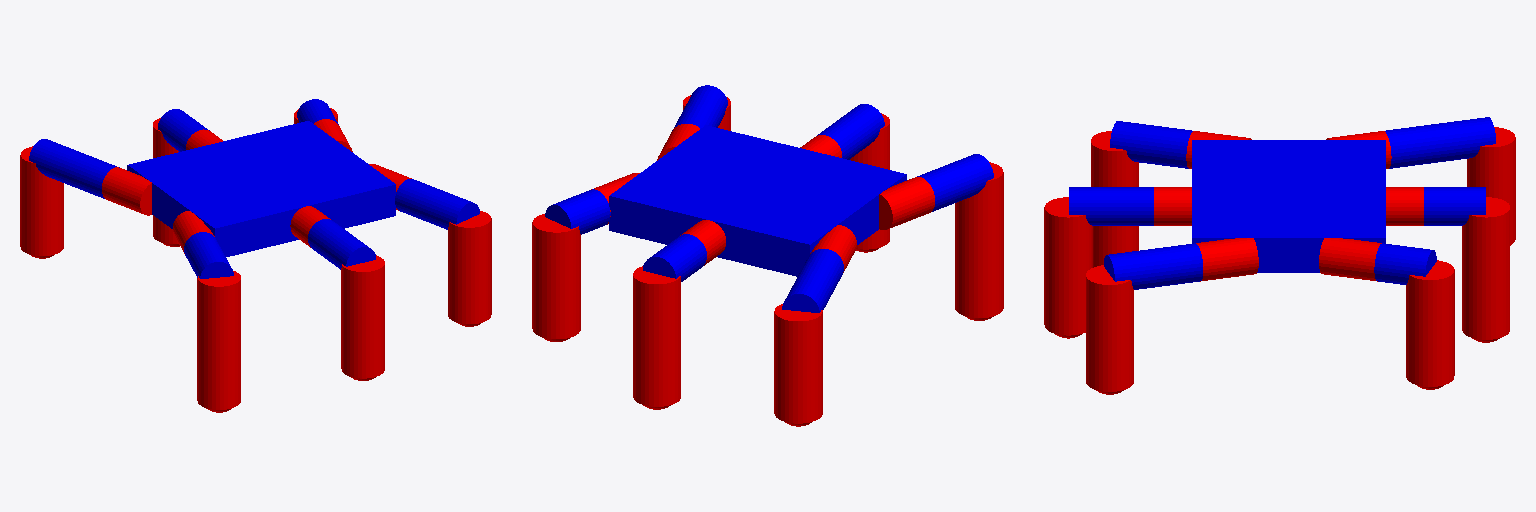
--- What the picture shows (computed from the rendered views, not written in the file) ---
Views: 3 orthographic renders of the robot side by side, from view 1: azimuth 30°, elevation 25°; view 2: azimuth 150°, elevation 25°; view 3: azimuth 270°, elevation 25°.
Model pexod with 19 links and 18 joints (18 revolute), rooted at base_link, posed every joint at zero.
Visible links, largest first — view 1: base_link, leg_5_3, leg_4_3, leg_3_3, leg_0_3, leg_0_2, leg_3_2, leg_4_2, leg_0_1, leg_5_2, leg_1_2, leg_1_3 (+3 smaller); view 2: base_link, leg_5_3, leg_1_3, leg_2_3, leg_0_3, leg_0_2, leg_5_2, leg_5_1, leg_4_2, leg_1_2, leg_2_2, leg_3_2 (+5 smaller); view 3: base_link, leg_1_3, leg_4_3, leg_2_3, leg_3_3, leg_0_2, leg_3_2, leg_5_3, leg_4_2, leg_0_3, leg_5_2, leg_1_2 (+5 smaller).
Boxes of the visible links, x1,y1,x2,y2 form: base_link: (127, 121, 395, 256); leg_5_3: (197, 271, 240, 412); leg_4_3: (341, 255, 384, 380); leg_3_3: (448, 211, 491, 326); leg_0_3: (20, 146, 63, 258); leg_0_2: (29, 139, 119, 198); leg_3_2: (395, 179, 479, 229); leg_4_2: (308, 219, 375, 269); leg_0_1: (102, 167, 151, 215); leg_5_2: (184, 232, 233, 278); leg_1_2: (158, 109, 209, 151); leg_1_3: (153, 118, 179, 246); base_link: (609, 125, 906, 276); leg_5_3: (955, 162, 1003, 320); leg_1_3: (633, 266, 680, 409); leg_2_3: (532, 214, 580, 341); leg_0_3: (774, 304, 822, 426); leg_0_2: (782, 249, 843, 312); leg_5_2: (917, 154, 993, 211); leg_5_1: (879, 177, 934, 229); leg_4_2: (817, 104, 884, 159); leg_1_2: (643, 234, 706, 281); leg_2_2: (545, 189, 610, 234); leg_3_2: (672, 85, 727, 130); base_link: (1192, 140, 1385, 272); leg_1_3: (1462, 197, 1509, 342); leg_4_3: (1044, 197, 1092, 338); leg_2_3: (1406, 260, 1454, 389); leg_3_3: (1086, 265, 1133, 394); leg_0_2: (1385, 117, 1495, 168); leg_3_2: (1104, 243, 1202, 289); leg_5_3: (1091, 131, 1138, 267); leg_4_2: (1069, 187, 1153, 225); leg_0_3: (1467, 127, 1515, 245); leg_5_2: (1110, 121, 1192, 168); leg_1_2: (1424, 187, 1485, 225).
Size in the robot's own frame: 0.3872 by 0.4875 by 0.1884 metres.
Geometry: primitives only (box / cylinder / sphere), no mesh files.

URDF robot description (pexod):
<?xml version="1.0" ?>
<!-- =================================================================================== -->
<!-- |    This document was autogenerated by xacro from pexod.xacro                    | -->
<!-- |    EDITING THIS FILE BY HAND IS NOT RECOMMENDED                                 | -->
<!-- =================================================================================== -->
<robot name="pexod" xmlns:xacro="http://www.ros.org/wiki/xacro">
  <!-- <xacro:include filename="$(find pexod_description)/urdf/pexod_control.xacro" /> -->
  <!-- MATERIALS -->
  <material name="Blue">
    <color rgba="0 0 1 1"/>
  </material>
  <material name="Red">
    <color rgba="1 0 0 1"/>
  </material>
  <material name="Green">
    <color rgba="0 1 0 1"/>
  </material>
  <material name="Yellow">
    <color rgba="1 1 0 1"/>
  </material>
  <material name="LightGrey">
    <color rgba="0.6 0.6 0.6 1.0"/>
  </material>
  <!-- END OF MATERIALS -->
  <!-- XACRO MACROS FOR VISUALS AND COLLISIONS -->
  <!-- END OF XACRO MACROS -->
  <!-- TORSO -->
  <link name="base_link">
    <visual>
      <origin rpy="0 0 0" xyz="0 0 0"/>
      <geometry>
        <box size="0.24 0.2 0.04"/>
      </geometry>
      <material name="Blue"/>
    </visual>
    <collision>
      <origin rpy="0 0 0" xyz="0 0 0"/>
      <geometry>
        <box size="0.24 0.2 0.04"/>
      </geometry>
    </collision>
    <inertial>
      <!-- CENTER OF MASS -->
      <origin rpy="0 0 0" xyz="0 0 0"/>
      <mass value="1.031"/>
      <!-- box inertia: 1/12*m(y^2+z^2), ... -->
      <inertia ixx="0.00357413333333" ixy="0" ixz="0" iyy="0.00508626666667" iyz="0" izz="0.00838546666667"/>
    </inertial>
  </link>
  <!-- XACRO MACRO FOR LEGS LINKS/JOINTS -->
  <!-- END OF LEG LINKS/JOINTS -->
  <joint name="body_leg_2" type="revolute">
    <parent link="base_link"/>
    <child link="leg_2_1"/>
    <limit effort="30.0" lower="-1.57079632679" upper="1.57079632679" velocity="7.0"/>
    <origin rpy="0 0 -0.3" xyz="0.11 0.04 0"/>
    <!-- <xacro:if value="${index == 5 or index == 4 or index == 3}">
                <axis xyz="0 0 1"/>
            </xacro:if>
            <xacro:if value="${index == 2 or index == 1 or index == 0}"> -->
    <axis xyz="0 0 1"/>
    <!-- </xacro:if> -->
    <dynamics damping="0.0"/>
  </joint>
  <link name="leg_2_1">
    <visual>
      <origin rpy="1.57079632679 0 0" xyz="0.01 0.03 0"/>
      <geometry>
        <cylinder length="0.06" radius="0.02"/>
      </geometry>
      <material name="Red"/>
    </visual>
    <collision>
      <origin rpy="1.57079632679 0 0" xyz="0.01 0.03 0"/>
      <geometry>
        <box size="0.02 0.02 0.06"/>
      </geometry>
    </collision>
    <inertial>
      <!-- CENTER OF MASS -->
      <origin rpy="1.57079632679 0 0" xyz="0.01 0.03 0"/>
      <mass value="0.02"/>
      <!-- box inertia: 1/12*m(y^2+z^2), ... -->
      <inertia ixx="6.66666666667e-06" ixy="0" ixz="0" iyy="6.66666666667e-06" iyz="0" izz="1.33333333333e-06"/>
    </inertial>
  </link>
  <joint name="leg_2_1_2" type="revolute">
    <parent link="leg_2_1"/>
    <child link="leg_2_2"/>
    <limit effort="30.0" lower="-0.78539816339" upper="0.78539816339" velocity="7.0"/>
    <origin rpy="0 0 0" xyz="0 0.06 0"/>
    <axis xyz="1 0 0"/>
    <dynamics damping="0.0"/>
  </joint>
  <link name="leg_2_2">
    <visual>
      <origin rpy="1.57079632679 0 0" xyz="0.01 0.0276457289929 0"/>
      <geometry>
        <cylinder length="0.0552914579858" radius="0.02"/>
      </geometry>
      <material name="Blue"/>
    </visual>
    <collision>
      <origin rpy="1.57079632679 0 0" xyz="0.01 0.0276457289929 0"/>
      <geometry>
        <box size="0.02 0.02 0.0552914579858"/>
      </geometry>
    </collision>
    <inertial>
      <!-- CENTER OF MASS -->
      <origin rpy="1.57079632679 0 0" xyz="0.01 0.0276457289929 0"/>
      <mass value="0.184"/>
      <!-- box inertia: 1/12*m(y^2+z^2), ... -->
      <inertia ixx="5.30095616683e-05" ixy="0" ixz="0" iyy="5.30095616683e-05" iyz="0" izz="1.22666666667e-05"/>
    </inertial>
  </link>
  <joint name="leg_2_2_3" type="revolute">
    <parent link="leg_2_2"/>
    <child link="leg_2_3"/>
    <limit effort="30.0" lower="-0.78539816339" upper="0.78539816339" velocity="7.0"/>
    <origin rpy="-1.57079632679 0 0" xyz="0 0.0552914579858 0"/>
    <axis xyz="-1 0 0"/>
    <dynamics damping="0.0"/>
  </joint>
  <link name="leg_2_3">
    <visual>
      <origin rpy="1.57079632679 0 0" xyz="0.0125 0.060950459894 0"/>
      <geometry>
        <cylinder length="0.121900919788" radius="0.025"/>
      </geometry>
      <material name="Red"/>
    </visual>
    <visual>
      <origin rpy="1.57079632679 0 0" xyz="0.0125 0.109400919788 0"/>
      <geometry>
        <sphere radius="0.025"/>
      </geometry>
      <material name="Red"/>
    </visual>
    <collision>
      <origin rpy="1.57079632679 0 0" xyz="0.0125 0.060950459894 0"/>
      <geometry>
        <box size="0.025 0.025 0.121900919788"/>
      </geometry>
    </collision>
    <collision>
      <origin rpy="1.57079632679 0 0" xyz="0.0125 0.109400919788 0"/>
      <geometry>
        <sphere radius="0.025"/>
      </geometry>
      <material name="Red"/>
    </collision>
    <inertial>
      <!-- CENTER OF MASS -->
      <origin rpy="1.57079632679 0 0" xyz="0.0125 0.060950459894 0"/>
      <mass value="0.04"/>
      <!-- box inertia: 1/12*m(y^2+z^2), ... -->
      <inertia ixx="5.16161141505e-05" ixy="0" ixz="0" iyy="5.16161141505e-05" iyz="0" izz="4.16666666667e-06"/>
    </inertial>
  </link>
  <joint name="body_leg_3" type="revolute">
    <parent link="base_link"/>
    <child link="leg_3_1"/>
    <limit effort="30.0" lower="-1.57079632679" upper="1.57079632679" velocity="7.0"/>
    <origin rpy="0 0 0.3" xyz="0.11 -0.04 0"/>
    <!-- <xacro:if value="${index == 5 or index == 4 or index == 3}">
                <axis xyz="0 0 1"/>
            </xacro:if>
            <xacro:if value="${index == 2 or index == 1 or index == 0}"> -->
    <axis xyz="0 0 1"/>
    <!-- </xacro:if> -->
    <dynamics damping="0.0"/>
  </joint>
  <link name="leg_3_1">
    <visual>
      <origin rpy="1.57079632679 0 0" xyz="0.01 -0.03 0"/>
      <geometry>
        <cylinder length="0.06" radius="0.02"/>
      </geometry>
      <material name="Red"/>
    </visual>
    <collision>
      <origin rpy="1.57079632679 0 0" xyz="0.01 -0.03 0"/>
      <geometry>
        <box size="0.02 0.02 0.06"/>
      </geometry>
    </collision>
    <inertial>
      <!-- CENTER OF MASS -->
      <origin rpy="1.57079632679 0 0" xyz="0.01 -0.03 0"/>
      <mass value="0.02"/>
      <!-- box inertia: 1/12*m(y^2+z^2), ... -->
      <inertia ixx="6.66666666667e-06" ixy="0" ixz="0" iyy="6.66666666667e-06" iyz="0" izz="1.33333333333e-06"/>
    </inertial>
  </link>
  <joint name="leg_3_1_2" type="revolute">
    <parent link="leg_3_1"/>
    <child link="leg_3_2"/>
    <limit effort="30.0" lower="-0.78539816339" upper="0.78539816339" velocity="7.0"/>
    <origin rpy="0 0 0" xyz="0 -0.06 0"/>
    <axis xyz="-1 0 0"/>
    <dynamics damping="0.0"/>
  </joint>
  <link name="leg_3_2">
    <visual>
      <origin rpy="1.57079632679 0 0" xyz="0.01 -0.0479272981822 0"/>
      <geometry>
        <cylinder length="0.0958545963644" radius="0.02"/>
      </geometry>
      <material name="Blue"/>
    </visual>
    <collision>
      <origin rpy="1.57079632679 0 0" xyz="0.01 -0.0479272981822 0"/>
      <geometry>
        <box size="0.02 0.02 0.0958545963644"/>
      </geometry>
    </collision>
    <inertial>
      <!-- CENTER OF MASS -->
      <origin rpy="1.57079632679 0 0" xyz="0.01 -0.0479272981822 0"/>
      <mass value="0.184"/>
      <!-- box inertia: 1/12*m(y^2+z^2), ... -->
      <inertia ixx="0.000147017589211" ixy="0" ixz="0" iyy="0.000147017589211" iyz="0" izz="1.22666666667e-05"/>
    </inertial>
  </link>
  <joint name="leg_3_2_3" type="revolute">
    <parent link="leg_3_2"/>
    <child link="leg_3_3"/>
    <limit effort="30.0" lower="-0.78539816339" upper="0.78539816339" velocity="7.0"/>
    <origin rpy="1.57079632679 0 0" xyz="0 -0.0958545963644 0"/>
    <axis xyz="1 0 0"/>
    <dynamics damping="0.0"/>
  </joint>
  <link name="leg_3_3">
    <visual>
      <origin rpy="1.57079632679 0 0" xyz="0.0125 -0.0610041925875 0"/>
      <geometry>
        <cylinder length="0.122008385175" radius="0.025"/>
      </geometry>
      <material name="Red"/>
    </visual>
    <visual>
      <origin rpy="1.57079632679 0 0" xyz="0.0125 -0.109508385175 0"/>
      <geometry>
        <sphere radius="0.025"/>
      </geometry>
      <material name="Red"/>
    </visual>
    <collision>
      <origin rpy="1.57079632679 0 0" xyz="0.0125 -0.0610041925875 0"/>
      <geometry>
        <box size="0.025 0.025 0.122008385175"/>
      </geometry>
    </collision>
    <collision>
      <origin rpy="1.57079632679 0 0" xyz="0.0125 -0.109508385175 0"/>
      <geometry>
        <sphere radius="0.025"/>
      </geometry>
      <material name="Red"/>
    </collision>
    <inertial>
      <!-- CENTER OF MASS -->
      <origin rpy="1.57079632679 0 0" xyz="0.0125 -0.0610041925875 0"/>
      <mass value="0.04"/>
      <!-- box inertia: 1/12*m(y^2+z^2), ... -->
      <inertia ixx="5.17034868434e-05" ixy="0" ixz="0" iyy="5.17034868434e-05" iyz="0" izz="4.16666666667e-06"/>
    </inertial>
  </link>
  <joint name="body_leg_0" type="revolute">
    <parent link="base_link"/>
    <child link="leg_0_1"/>
    <limit effort="30.0" lower="-1.57079632679" upper="1.57079632679" velocity="7.0"/>
    <origin rpy="0 0 0.3" xyz="-0.13 0.04 0"/>
    <!-- <xacro:if value="${index == 5 or index == 4 or index == 3}">
                <axis xyz="0 0 1"/>
            </xacro:if>
            <xacro:if value="${index == 2 or index == 1 or index == 0}"> -->
    <axis xyz="0 0 1"/>
    <!-- </xacro:if> -->
    <dynamics damping="0.0"/>
  </joint>
  <link name="leg_0_1">
    <visual>
      <origin rpy="1.57079632679 0 0" xyz="0.01 0.03 0"/>
      <geometry>
        <cylinder length="0.06" radius="0.02"/>
      </geometry>
      <material name="Red"/>
    </visual>
    <collision>
      <origin rpy="1.57079632679 0 0" xyz="0.01 0.03 0"/>
      <geometry>
        <box size="0.02 0.02 0.06"/>
      </geometry>
    </collision>
    <inertial>
      <!-- CENTER OF MASS -->
      <origin rpy="1.57079632679 0 0" xyz="0.01 0.03 0"/>
      <mass value="0.02"/>
      <!-- box inertia: 1/12*m(y^2+z^2), ... -->
      <inertia ixx="6.66666666667e-06" ixy="0" ixz="0" iyy="6.66666666667e-06" iyz="0" izz="1.33333333333e-06"/>
    </inertial>
  </link>
  <joint name="leg_0_1_2" type="revolute">
    <parent link="leg_0_1"/>
    <child link="leg_0_2"/>
    <limit effort="30.0" lower="-0.78539816339" upper="0.78539816339" velocity="7.0"/>
    <origin rpy="0 0 0" xyz="0 0.06 0"/>
    <axis xyz="1 0 0"/>
    <dynamics damping="0.0"/>
  </joint>
  <link name="leg_0_2">
    <visual>
      <origin rpy="1.57079632679 0 0" xyz="0.01 0.0568274144295 0"/>
      <geometry>
        <cylinder length="0.113654828859" radius="0.02"/>
      </geometry>
      <material name="Blue"/>
    </visual>
    <collision>
      <origin rpy="1.57079632679 0 0" xyz="0.01 0.0568274144295 0"/>
      <geometry>
        <box size="0.02 0.02 0.113654828859"/>
      </geometry>
    </collision>
    <inertial>
      <!-- CENTER OF MASS -->
      <origin rpy="1.57079632679 0 0" xyz="0.01 0.0568274144295 0"/>
      <mass value="0.184"/>
      <!-- box inertia: 1/12*m(y^2+z^2), ... -->
      <inertia ixx="0.000204200441886" ixy="0" ixz="0" iyy="0.000204200441886" iyz="0" izz="1.22666666667e-05"/>
    </inertial>
  </link>
  <joint name="leg_0_2_3" type="revolute">
    <parent link="leg_0_2"/>
    <child link="leg_0_3"/>
    <limit effort="30.0" lower="-0.78539816339" upper="0.78539816339" velocity="7.0"/>
    <origin rpy="-1.57079632679 0 0" xyz="0 0.113654828859 0"/>
    <axis xyz="-1 0 0"/>
    <dynamics damping="0.0"/>
  </joint>
  <link name="leg_0_3">
    <visual>
      <origin rpy="1.57079632679 0 0" xyz="0.0125 0.05831994334 0"/>
      <geometry>
        <cylinder length="0.11663988668" radius="0.025"/>
      </geometry>
      <material name="Red"/>
    </visual>
    <visual>
      <origin rpy="1.57079632679 0 0" xyz="0.0125 0.10413988668 0"/>
      <geometry>
        <sphere radius="0.025"/>
      </geometry>
      <material name="Red"/>
    </visual>
    <collision>
      <origin rpy="1.57079632679 0 0" xyz="0.0125 0.05831994334 0"/>
      <geometry>
        <box size="0.025 0.025 0.11663988668"/>
      </geometry>
    </collision>
    <collision>
      <origin rpy="1.57079632679 0 0" xyz="0.0125 0.10413988668 0"/>
      <geometry>
        <sphere radius="0.025"/>
      </geometry>
      <material name="Red"/>
    </collision>
    <inertial>
      <!-- CENTER OF MASS -->
      <origin rpy="1.57079632679 0 0" xyz="0.0125 0.05831994334 0"/>
      <mass value="0.04"/>
      <!-- box inertia: 1/12*m(y^2+z^2), ... -->
      <inertia ixx="4.74328772157e-05" ixy="0" ixz="0" iyy="4.74328772157e-05" iyz="0" izz="4.16666666667e-06"/>
    </inertial>
  </link>
  <joint name="body_leg_5" type="revolute">
    <parent link="base_link"/>
    <child link="leg_5_1"/>
    <limit effort="30.0" lower="-1.57079632679" upper="1.57079632679" velocity="7.0"/>
    <origin rpy="0 0 -0.3" xyz="-0.13 -0.04 0"/>
    <!-- <xacro:if value="${index == 5 or index == 4 or index == 3}">
                <axis xyz="0 0 1"/>
            </xacro:if>
            <xacro:if value="${index == 2 or index == 1 or index == 0}"> -->
    <axis xyz="0 0 1"/>
    <!-- </xacro:if> -->
    <dynamics damping="0.0"/>
  </joint>
  <link name="leg_5_1">
    <visual>
      <origin rpy="1.57079632679 0 0" xyz="0.01 -0.03 0"/>
      <geometry>
        <cylinder length="0.06" radius="0.02"/>
      </geometry>
      <material name="Red"/>
    </visual>
    <collision>
      <origin rpy="1.57079632679 0 0" xyz="0.01 -0.03 0"/>
      <geometry>
        <box size="0.02 0.02 0.06"/>
      </geometry>
    </collision>
    <inertial>
      <!-- CENTER OF MASS -->
      <origin rpy="1.57079632679 0 0" xyz="0.01 -0.03 0"/>
      <mass value="0.02"/>
      <!-- box inertia: 1/12*m(y^2+z^2), ... -->
      <inertia ixx="6.66666666667e-06" ixy="0" ixz="0" iyy="6.66666666667e-06" iyz="0" izz="1.33333333333e-06"/>
    </inertial>
  </link>
  <joint name="leg_5_1_2" type="revolute">
    <parent link="leg_5_1"/>
    <child link="leg_5_2"/>
    <limit effort="30.0" lower="-0.78539816339" upper="0.78539816339" velocity="7.0"/>
    <origin rpy="0 0 0" xyz="0 -0.06 0"/>
    <axis xyz="-1 0 0"/>
    <dynamics damping="0.0"/>
  </joint>
  <link name="leg_5_2">
    <visual>
      <origin rpy="1.57079632679 0 0" xyz="0.01 -0.0414158962984 0"/>
      <geometry>
        <cylinder length="0.0828317925968" radius="0.02"/>
      </geometry>
      <material name="Blue"/>
    </visual>
    <collision>
      <origin rpy="1.57079632679 0 0" xyz="0.01 -0.0414158962984 0"/>
      <geometry>
        <box size="0.02 0.02 0.0828317925968"/>
      </geometry>
    </collision>
    <inertial>
      <!-- CENTER OF MASS -->
      <origin rpy="1.57079632679 0 0" xyz="0.01 -0.0414158962984 0"/>
      <mass value="0.184"/>
      <!-- box inertia: 1/12*m(y^2+z^2), ... -->
      <inertia ixx="0.000111336956594" ixy="0" ixz="0" iyy="0.000111336956594" iyz="0" izz="1.22666666667e-05"/>
    </inertial>
  </link>
  <joint name="leg_5_2_3" type="revolute">
    <parent link="leg_5_2"/>
    <child link="leg_5_3"/>
    <limit effort="30.0" lower="-0.78539816339" upper="0.78539816339" velocity="7.0"/>
    <origin rpy="1.57079632679 0 0" xyz="0 -0.0828317925968 0"/>
    <axis xyz="1 0 0"/>
    <dynamics damping="0.0"/>
  </joint>
  <link name="leg_5_3">
    <visual>
      <origin rpy="1.57079632679 0 0" xyz="0.0125 -0.077932295295 0"/>
      <geometry>
        <cylinder length="0.15586459059" radius="0.025"/>
      </geometry>
      <material name="Red"/>
    </visual>
    <visual>
      <origin rpy="1.57079632679 0 0" xyz="0.0125 -0.14336459059 0"/>
      <geometry>
        <sphere radius="0.025"/>
      </geometry>
      <material name="Red"/>
    </visual>
    <collision>
      <origin rpy="1.57079632679 0 0" xyz="0.0125 -0.077932295295 0"/>
      <geometry>
        <box size="0.025 0.025 0.15586459059"/>
      </geometry>
    </collision>
    <collision>
      <origin rpy="1.57079632679 0 0" xyz="0.0125 -0.14336459059 0"/>
      <geometry>
        <sphere radius="0.025"/>
      </geometry>
      <material name="Red"/>
    </collision>
    <inertial>
      <!-- CENTER OF MASS -->
      <origin rpy="1.57079632679 0 0" xyz="0.0125 -0.077932295295 0"/>
      <mass value="0.04"/>
      <!-- box inertia: 1/12*m(y^2+z^2), ... -->
      <inertia ixx="8.3062568666e-05" ixy="0" ixz="0" iyy="8.3062568666e-05" iyz="0" izz="4.16666666667e-06"/>
    </inertial>
  </link>
  <joint name="body_leg_1" type="revolute">
    <parent link="base_link"/>
    <child link="leg_1_1"/>
    <limit effort="30.0" lower="-1.57079632679" upper="1.57079632679" velocity="7.0"/>
    <origin rpy="0 0 0" xyz="-0.01 0.08 0"/>
    <!-- <xacro:if value="${index == 5 or index == 4 or index == 3}">
                <axis xyz="0 0 1"/>
            </xacro:if>
            <xacro:if value="${index == 2 or index == 1 or index == 0}"> -->
    <axis xyz="0 0 1"/>
    <!-- </xacro:if> -->
    <dynamics damping="0.0"/>
  </joint>
  <link name="leg_1_1">
    <visual>
      <origin rpy="1.57079632679 0 0" xyz="0.01 0.03 0"/>
      <geometry>
        <cylinder length="0.06" radius="0.02"/>
      </geometry>
      <material name="Red"/>
    </visual>
    <collision>
      <origin rpy="1.57079632679 0 0" xyz="0.01 0.03 0"/>
      <geometry>
        <box size="0.02 0.02 0.06"/>
      </geometry>
    </collision>
    <inertial>
      <!-- CENTER OF MASS -->
      <origin rpy="1.57079632679 0 0" xyz="0.01 0.03 0"/>
      <mass value="0.02"/>
      <!-- box inertia: 1/12*m(y^2+z^2), ... -->
      <inertia ixx="6.66666666667e-06" ixy="0" ixz="0" iyy="6.66666666667e-06" iyz="0" izz="1.33333333333e-06"/>
    </inertial>
  </link>
  <joint name="leg_1_1_2" type="revolute">
    <parent link="leg_1_1"/>
    <child link="leg_1_2"/>
    <limit effort="30.0" lower="-0.78539816339" upper="0.78539816339" velocity="7.0"/>
    <origin rpy="0 0 0" xyz="0 0.06 0"/>
    <axis xyz="1 0 0"/>
    <dynamics damping="0.0"/>
  </joint>
  <link name="leg_1_2">
    <visual>
      <origin rpy="1.57079632679 0 0" xyz="0.01 0.0321232636037 0"/>
      <geometry>
        <cylinder length="0.0642465272074" radius="0.02"/>
      </geometry>
      <material name="Blue"/>
    </visual>
    <collision>
      <origin rpy="1.57079632679 0 0" xyz="0.01 0.0321232636037 0"/>
      <geometry>
        <box size="0.02 0.02 0.0642465272074"/>
      </geometry>
    </collision>
    <inertial>
      <!-- CENTER OF MASS -->
      <origin rpy="1.57079632679 0 0" xyz="0.01 0.0321232636037 0"/>
      <mass value="0.184"/>
      <!-- box inertia: 1/12*m(y^2+z^2), ... -->
      <inertia ixx="6.94234492926e-05" ixy="0" ixz="0" iyy="6.94234492926e-05" iyz="0" izz="1.22666666667e-05"/>
    </inertial>
  </link>
  <joint name="leg_1_2_3" type="revolute">
    <parent link="leg_1_2"/>
    <child link="leg_1_3"/>
    <limit effort="30.0" lower="-0.78539816339" upper="0.78539816339" velocity="7.0"/>
    <origin rpy="-1.57079632679 0 0" xyz="0 0.0642465272074 0"/>
    <axis xyz="-1 0 0"/>
    <dynamics damping="0.0"/>
  </joint>
  <link name="leg_1_3">
    <visual>
      <origin rpy="1.57079632679 0 0" xyz="0.0125 0.0698620497045 0"/>
      <geometry>
        <cylinder length="0.139724099409" radius="0.025"/>
      </geometry>
      <material name="Red"/>
    </visual>
    <visual>
      <origin rpy="1.57079632679 0 0" xyz="0.0125 0.127224099409 0"/>
      <geometry>
        <sphere radius="0.025"/>
      </geometry>
      <material name="Red"/>
    </visual>
    <collision>
      <origin rpy="1.57079632679 0 0" xyz="0.0125 0.0698620497045 0"/>
      <geometry>
        <box size="0.025 0.025 0.139724099409"/>
      </geometry>
    </collision>
    <collision>
      <origin rpy="1.57079632679 0 0" xyz="0.0125 0.127224099409 0"/>
      <geometry>
        <sphere radius="0.025"/>
      </geometry>
      <material name="Red"/>
    </collision>
    <inertial>
      <!-- CENTER OF MASS -->
      <origin rpy="1.57079632679 0 0" xyz="0.0125 0.0698620497045 0"/>
      <mass value="0.04"/>
      <!-- box inertia: 1/12*m(y^2+z^2), ... -->
      <inertia ixx="6.71594131855e-05" ixy="0" ixz="0" iyy="6.71594131855e-05" iyz="0" izz="4.16666666667e-06"/>
    </inertial>
  </link>
  <joint name="body_leg_4" type="revolute">
    <parent link="base_link"/>
    <child link="leg_4_1"/>
    <limit effort="30.0" lower="-1.57079632679" upper="1.57079632679" velocity="7.0"/>
    <origin rpy="0 0 0" xyz="-0.01 -0.08 0"/>
    <!-- <xacro:if value="${index == 5 or index == 4 or index == 3}">
                <axis xyz="0 0 1"/>
            </xacro:if>
            <xacro:if value="${index == 2 or index == 1 or index == 0}"> -->
    <axis xyz="0 0 1"/>
    <!-- </xacro:if> -->
    <dynamics damping="0.0"/>
  </joint>
  <link name="leg_4_1">
    <visual>
      <origin rpy="1.57079632679 0 0" xyz="0.01 -0.03 0"/>
      <geometry>
        <cylinder length="0.06" radius="0.02"/>
      </geometry>
      <material name="Red"/>
    </visual>
    <collision>
      <origin rpy="1.57079632679 0 0" xyz="0.01 -0.03 0"/>
      <geometry>
        <box size="0.02 0.02 0.06"/>
      </geometry>
    </collision>
    <inertial>
      <!-- CENTER OF MASS -->
      <origin rpy="1.57079632679 0 0" xyz="0.01 -0.03 0"/>
      <mass value="0.02"/>
      <!-- box inertia: 1/12*m(y^2+z^2), ... -->
      <inertia ixx="6.66666666667e-06" ixy="0" ixz="0" iyy="6.66666666667e-06" iyz="0" izz="1.33333333333e-06"/>
    </inertial>
  </link>
  <joint name="leg_4_1_2" type="revolute">
    <parent link="leg_4_1"/>
    <child link="leg_4_2"/>
    <limit effort="30.0" lower="-0.78539816339" upper="0.78539816339" velocity="7.0"/>
    <origin rpy="0 0 0" xyz="0 -0.06 0"/>
    <axis xyz="-1 0 0"/>
    <dynamics damping="0.0"/>
  </joint>
  <link name="leg_4_2">
    <visual>
      <origin rpy="1.57079632679 0 0" xyz="0.01 -0.0440014574495 0"/>
      <geometry>
        <cylinder length="0.088002914899" radius="0.02"/>
      </geometry>
      <material name="Blue"/>
    </visual>
    <collision>
      <origin rpy="1.57079632679 0 0" xyz="0.01 -0.0440014574495 0"/>
      <geometry>
        <box size="0.02 0.02 0.088002914899"/>
      </geometry>
    </collision>
    <inertial>
      <!-- CENTER OF MASS -->
      <origin rpy="1.57079632679 0 0" xyz="0.01 -0.0440014574495 0"/>
      <mass value="0.184"/>
      <!-- box inertia: 1/12*m(y^2+z^2), ... -->
      <inertia ixx="0.000124882533138" ixy="0" ixz="0" iyy="0.000124882533138" iyz="0" izz="1.22666666667e-05"/>
    </inertial>
  </link>
  <joint name="leg_4_2_3" type="revolute">
    <parent link="leg_4_2"/>
    <child link="leg_4_3"/>
    <limit effort="30.0" lower="-0.78539816339" upper="0.78539816339" velocity="7.0"/>
    <origin rpy="1.57079632679 0 0" xyz="0 -0.088002914899 0"/>
    <axis xyz="1 0 0"/>
    <dynamics damping="0.0"/>
  </joint>
  <link name="leg_4_3">
    <visual>
      <origin rpy="1.57079632679 0 0" xyz="0.0125 -0.0673835432675 0"/>
      <geometry>
        <cylinder length="0.134767086535" radius="0.025"/>
      </geometry>
      <material name="Red"/>
    </visual>
    <visual>
      <origin rpy="1.57079632679 0 0" xyz="0.0125 -0.122267086535 0"/>
      <geometry>
        <sphere radius="0.025"/>
      </geometry>
      <material name="Red"/>
    </visual>
    <collision>
      <origin rpy="1.57079632679 0 0" xyz="0.0125 -0.0673835432675 0"/>
      <geometry>
        <box size="0.025 0.025 0.134767086535"/>
      </geometry>
    </collision>
    <collision>
      <origin rpy="1.57079632679 0 0" xyz="0.0125 -0.122267086535 0"/>
      <geometry>
        <sphere radius="0.025"/>
      </geometry>
      <material name="Red"/>
    </collision>
    <inertial>
      <!-- CENTER OF MASS -->
      <origin rpy="1.57079632679 0 0" xyz="0.0125 -0.0673835432675 0"/>
      <mass value="0.04"/>
      <!-- box inertia: 1/12*m(y^2+z^2), ... -->
      <inertia ixx="6.26238920438e-05" ixy="0" ixz="0" iyy="6.26238920438e-05" iyz="0" izz="4.16666666667e-06"/>
    </inertial>
  </link>
  <!-- END OF LEG LINKS/JOINTS -->
</robot>
